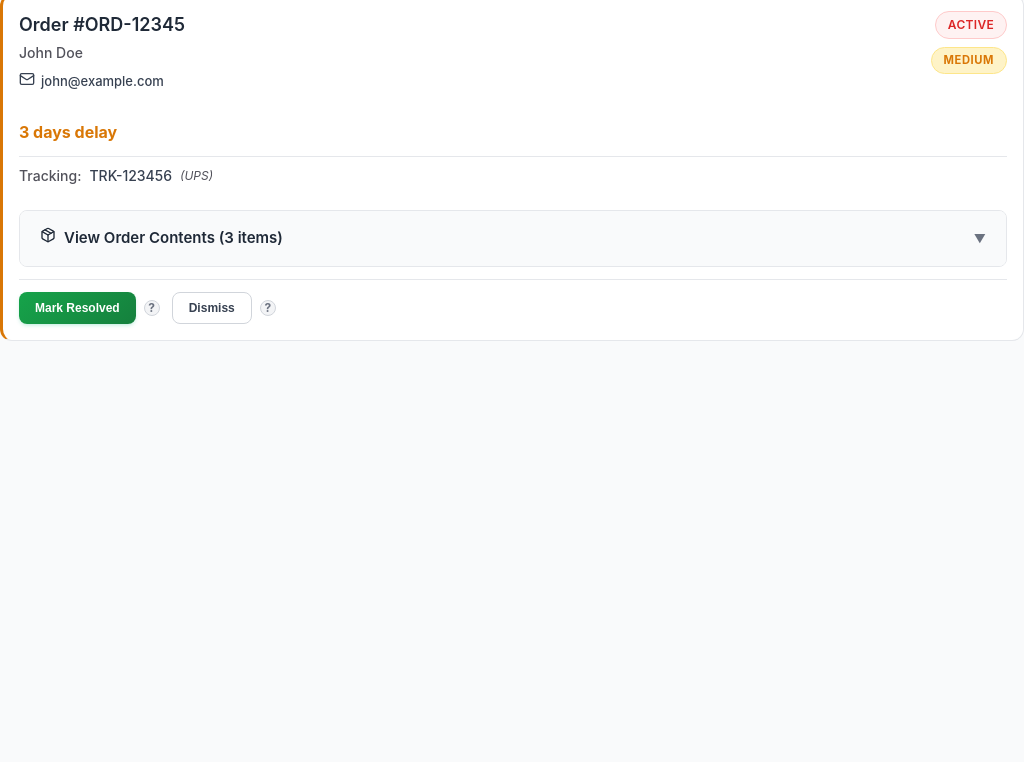
Test case: AlertCard › Phase 1.2: Product Information Display › Product Details Accordion Behavior › should expand product details when accordion is clicked
The width and height of the screenshot is (1024, 762).
Click the button "View Order Contents (3 items) ▼".
click(144, 238)  # box [20,211,1006,266]
(page scrolled)
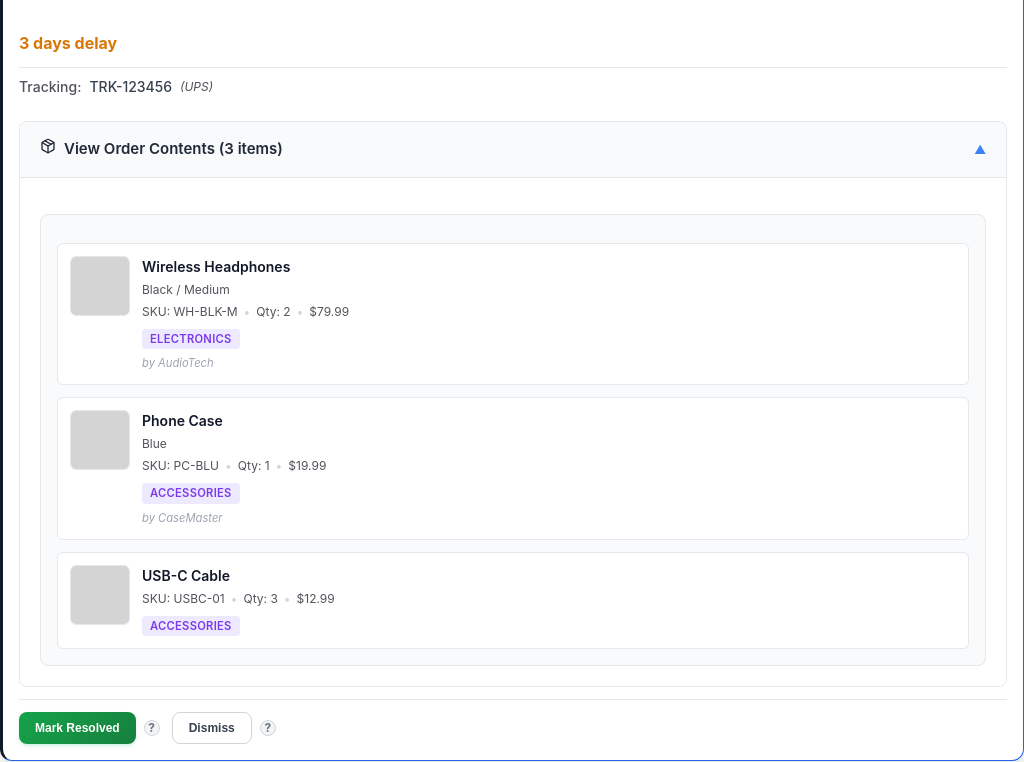
Now the button "View Order Contents (3 items) ▼" is expanded, box [20,122,1006,176]
Now the element that starts with "Wireless Headphones" is shown
